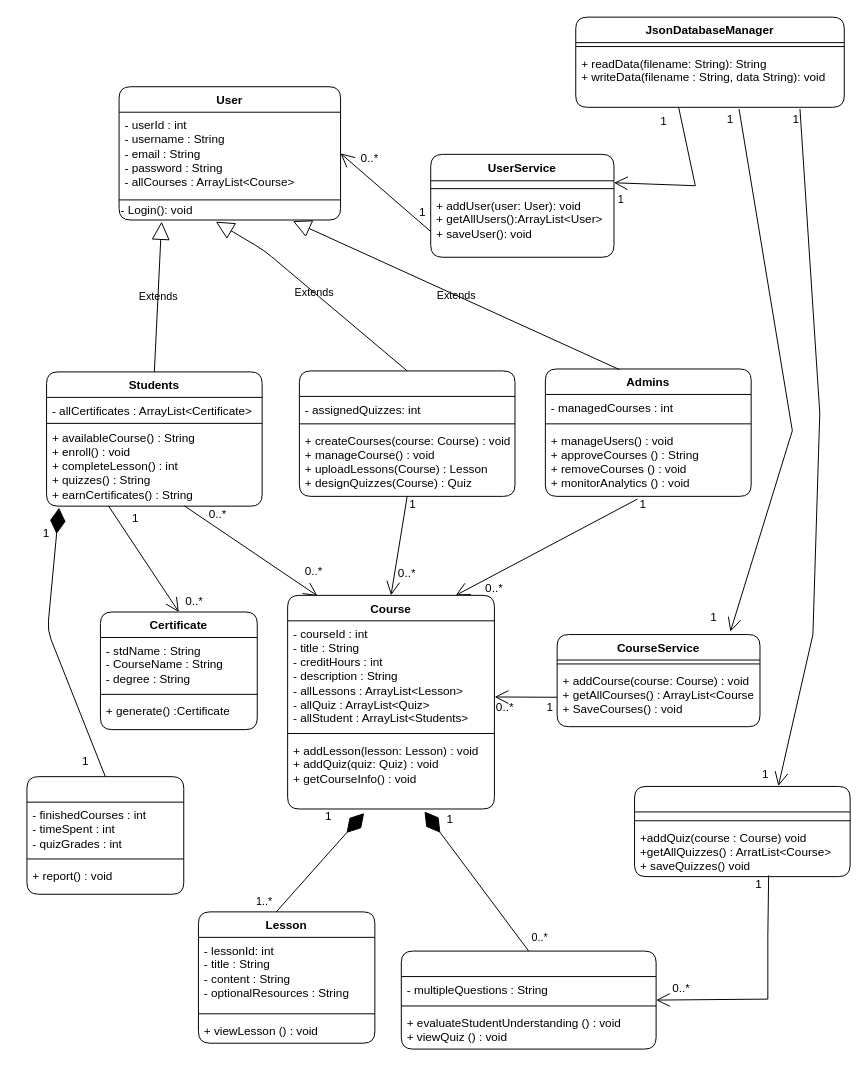
Image size: 867x1069. Some labels were removed from this diagram. Here are the shapes that lost their labels. From the top down, the box of each, then its label:
(298, 370, 515, 496): Instructors
(26, 776, 184, 894): Analytics
(634, 785, 850, 877): QuizService
(400, 950, 656, 1049): Quizz
